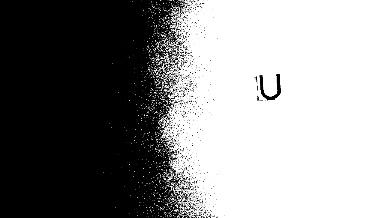U: (254, 70, 282, 100)
